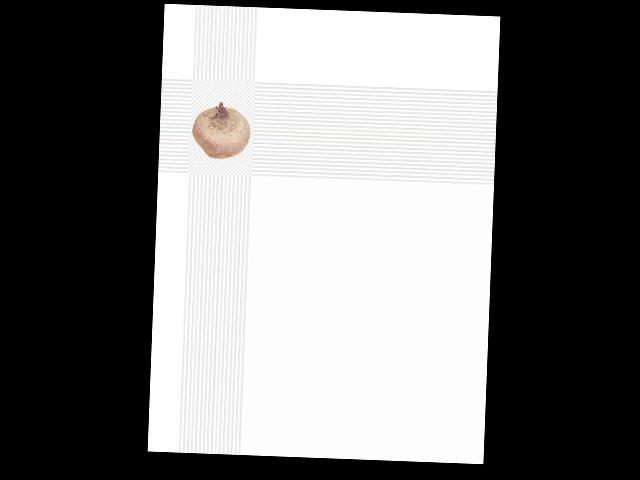beet: (191, 100, 250, 159)
